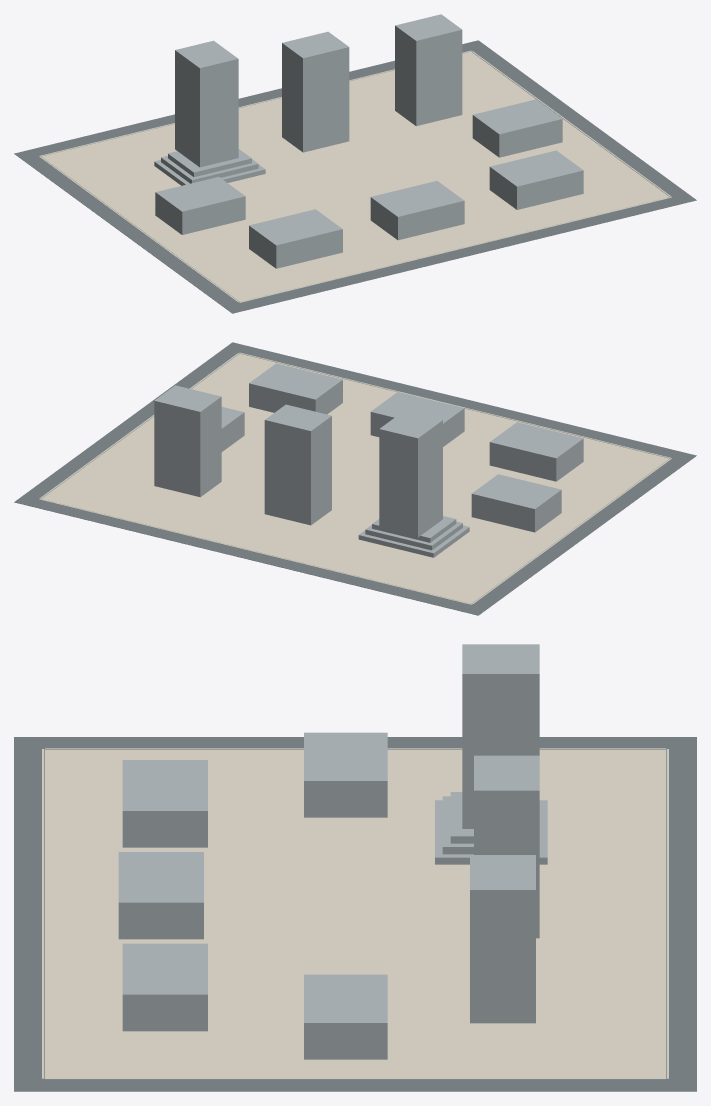
Rendered from campus-gray.glb.
3 renders of one model, top to bottom at view 1: azimuth 30°, elevation 25°; view 2: azimuth 150°, elevation 25°; view 3: azimuth 270°, elevation 25°, orthographic. The views are drawn at different scales.
Parts seen in each view (by area): view 1: environment_path, environment_road, A1_gray, B1_gray, B2_gray, C2_gray, C3_gray, C1_gray, A2_gray, B3_gray, environment_stone; view 2: environment_path, environment_road, A1_gray, B1_gray, B2_gray, C1_gray, A2_gray, C3_gray, C2_gray, environment_stone, B3_gray; view 3: environment_path, environment_road, A1_gray, B2_gray, C3_gray, C1_gray, C2_gray, A2_gray, B3_gray, B1_gray, environment_stone.
Part boxes in pixels (x1,y1,x2,y2): environment_path: (41, 51, 669, 301); environment_road: (14, 40, 696, 313); A1_gray: (154, 40, 265, 185); B1_gray: (282, 31, 349, 152); B2_gray: (395, 14, 462, 126); C2_gray: (370, 181, 464, 240); C3_gray: (489, 150, 583, 209); C1_gray: (249, 209, 342, 268); A2_gray: (155, 177, 245, 234); B3_gray: (472, 99, 562, 157); environment_stone: (39, 50, 671, 302); environment_path: (41, 353, 669, 603); environment_road: (14, 342, 696, 615); A1_gray: (358, 411, 469, 557); B1_gray: (264, 404, 331, 525); B2_gray: (154, 385, 221, 497); C1_gray: (489, 422, 583, 481); A2_gray: (471, 474, 561, 532); C3_gray: (249, 363, 342, 414); C2_gray: (370, 392, 464, 446); environment_stone: (39, 352, 671, 604); B3_gray: (221, 407, 244, 451); environment_path: (45, 750, 665, 1077); environment_road: (14, 737, 696, 1091); A1_gray: (435, 644, 547, 864); B2_gray: (470, 855, 535, 1023); C3_gray: (122, 943, 207, 1031); C1_gray: (122, 760, 207, 847); C2_gray: (118, 852, 203, 939); A2_gray: (304, 732, 387, 817); B3_gray: (304, 974, 387, 1059); B1_gray: (474, 755, 539, 938); environment_stone: (42, 748, 668, 1079).
Size of what is drawn, in the model's own units: 432 by 101 by 352.
